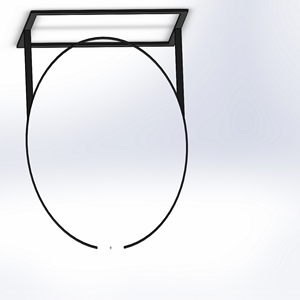circle: (15, 6, 190, 252)
